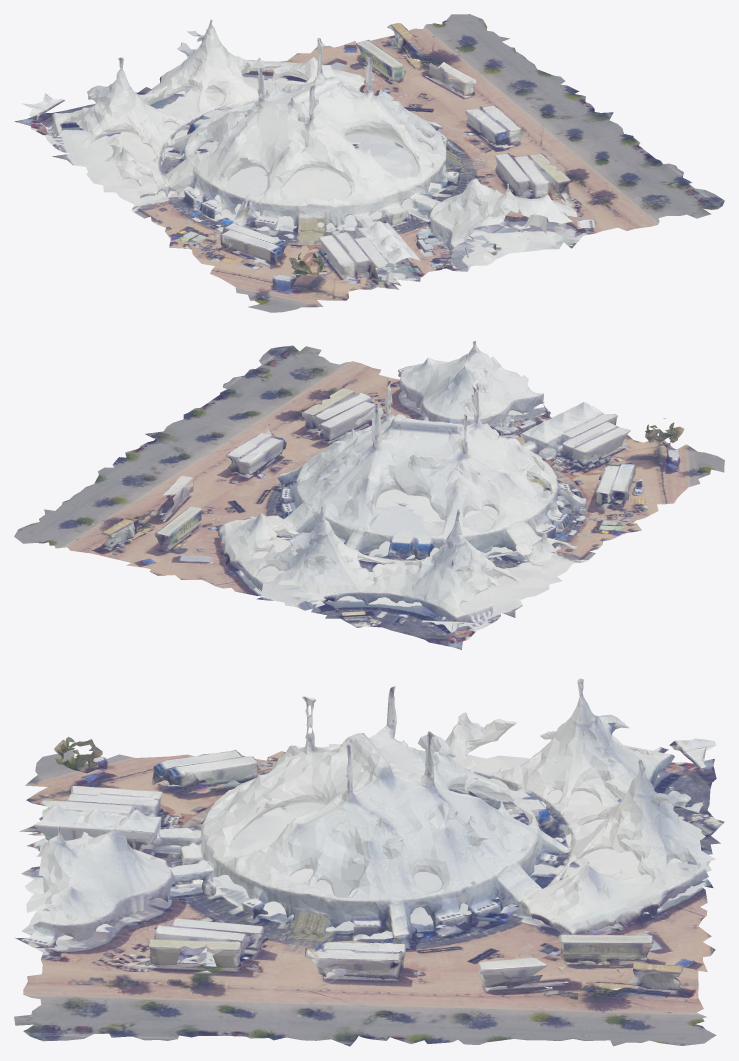
3 views of the same model, one above another, from view 1: azimuth 30°, elevation 25°; view 2: azimuth 150°, elevation 25°; view 3: azimuth 270°, elevation 25° (orthographic). The views are drawn at different scales.
Size of the model in its own units: 108 by 26.16 by 109.
1 material, 1 textured.
